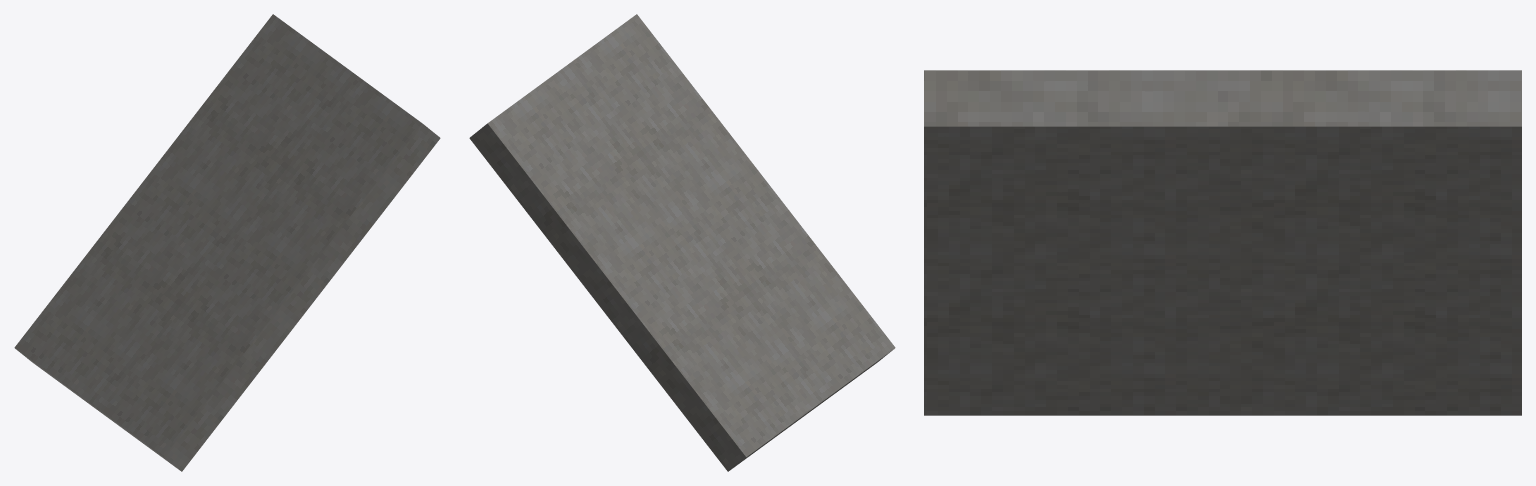
Rendered from ramp.glb.
3 views of the same model, side by side, from view 1: azimuth 30°, elevation 25°; view 2: azimuth 150°, elevation 25°; view 3: azimuth 270°, elevation 25° (orthographic). The views are drawn at different scales.
Visible parts, largest first — view 1: ramp; view 2: ramp; view 3: ramp.
Boxes of the visible parts, x1,y1,x2,y2 form: ramp: (14, 14, 440, 471); ramp: (469, 14, 895, 471); ramp: (924, 70, 1521, 415).
Size of the model in its own units: 2.14 by 2.14 by 2.
Materials: 1 (1 with a texture image).
